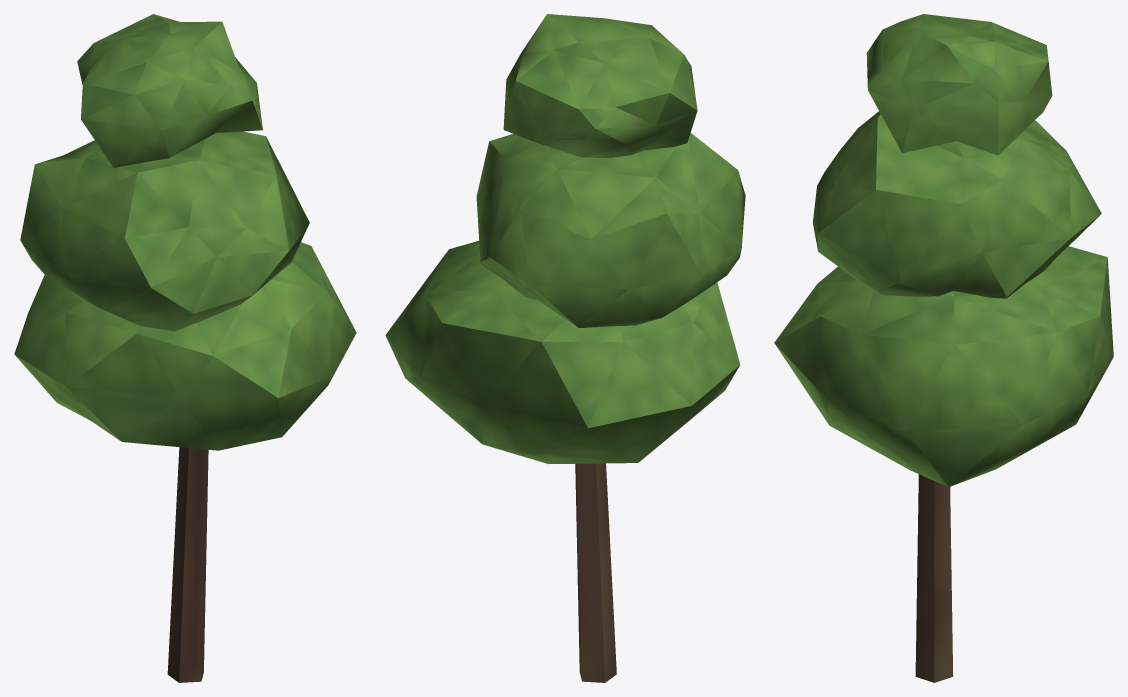
Rendered from SM_Sapling01.fbx.
The picture shows the model from 3 angles, left to right: view 1: azimuth 30°, elevation 25°; view 2: azimuth 150°, elevation 25°; view 3: azimuth 270°, elevation 25°; orthographic projection. The views are drawn at different scales.
Parts seen in each view (by area): view 1: SM_Sapling01; view 2: SM_Sapling01; view 3: SM_Sapling01.
Part boxes in pixels (left/top/right/bottom): SM_Sapling01: left=14, top=14, right=356, bottom=682; SM_Sapling01: left=385, top=14, right=745, bottom=682; SM_Sapling01: left=774, top=14, right=1113, bottom=682.
Bounding box in the file's own units: 2.46 × 5.07 × 2.41.
1 material, 1 textured.
